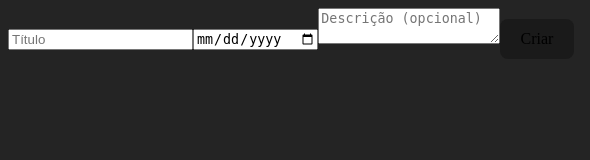
Scenario: CriarLembrete Component › deve enviar requisição ao servidor e limpar os campos após criação
This screenshot has width=590, height=160.
Type "Teste" into the field with placeholder "Título" at (100, 40), box [8, 29, 193, 50]
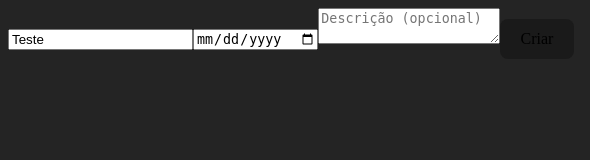
Type "Descrição" into the text box with placeholder "Descrição (opcional)" at (409, 26), box [318, 8, 500, 44]
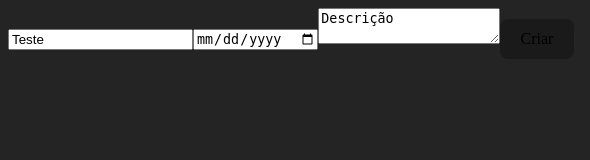
Type "2025-01-01" into the date field with placeholder "Data" at (256, 39), box [193, 29, 318, 50]
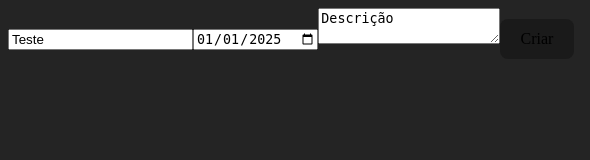
Click the button "Criar" at (537, 39), box [500, 19, 574, 59]
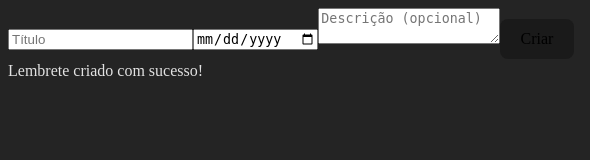
expect the text "Lembrete criado com sucesso!" is shown: met, box [8, 62, 203, 79]
expect the field with placeholder "Título" is empty: met, box [8, 29, 193, 50]
expect the text box with placeholder "Descrição (opcional)" is empty: met, box [318, 8, 500, 44]
